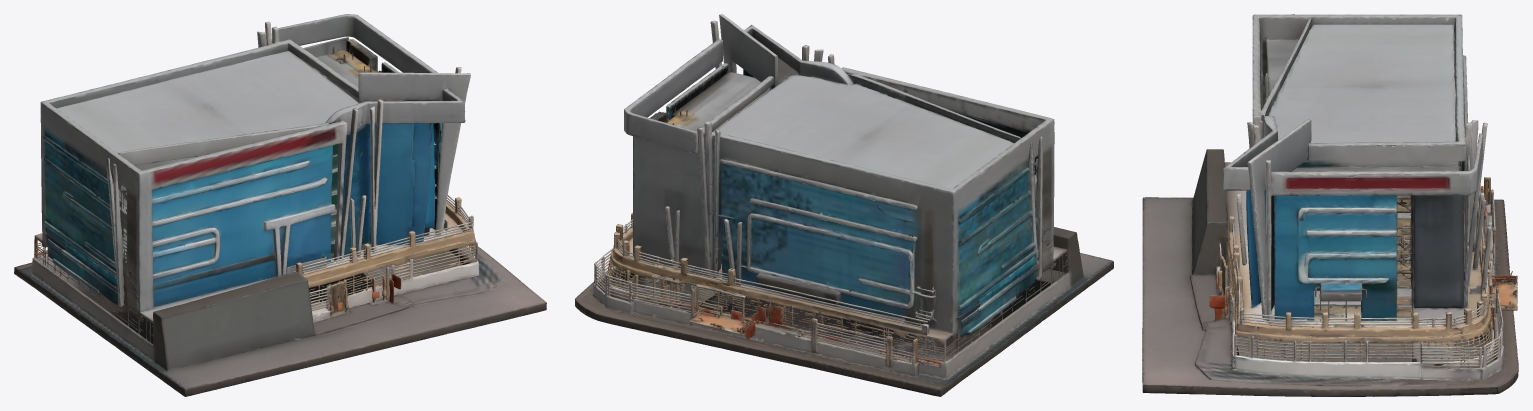
File: banque-misr-5.glb
3 views of the same model, side by side, from view 1: azimuth 30°, elevation 25°; view 2: azimuth 150°, elevation 25°; view 3: azimuth 270°, elevation 25° (orthographic). The views are drawn at different scales.
Size of the model in its own units: 1 by 0.536 by 0.8351.
Materials: 1 (1 with a texture image).
